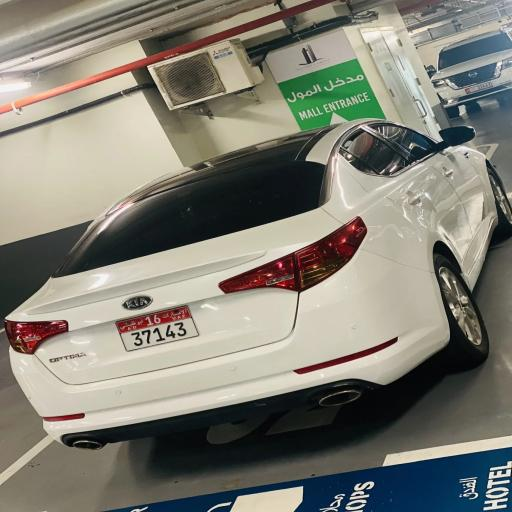license-plates: (115, 305, 199, 352)
